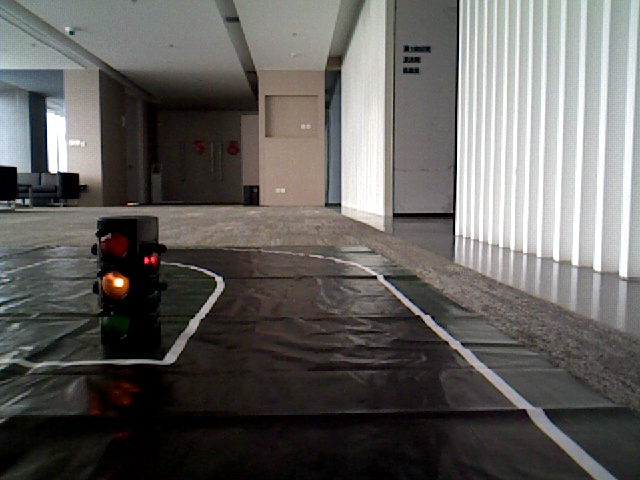yellow: (96, 220, 141, 339)
